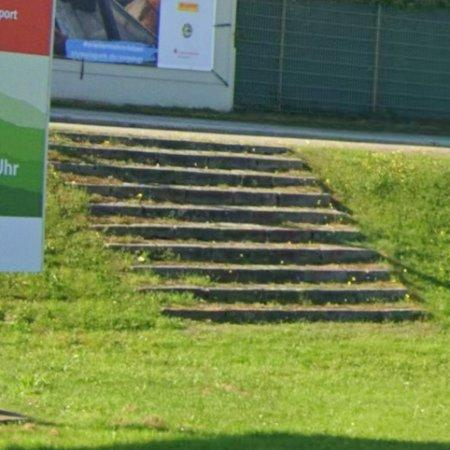stairs: (50, 131, 424, 322)
